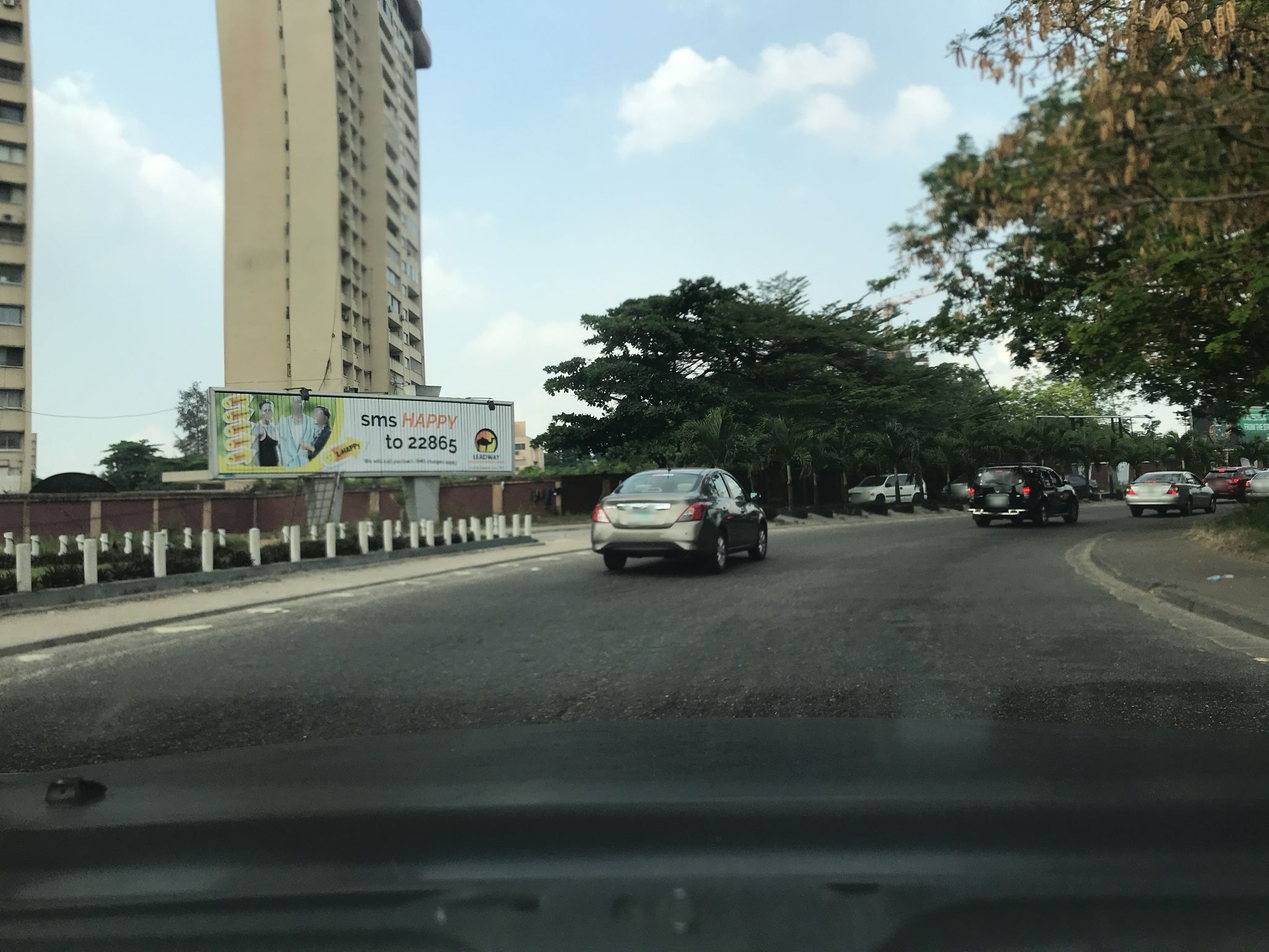Billboard: (209, 388, 514, 478)
